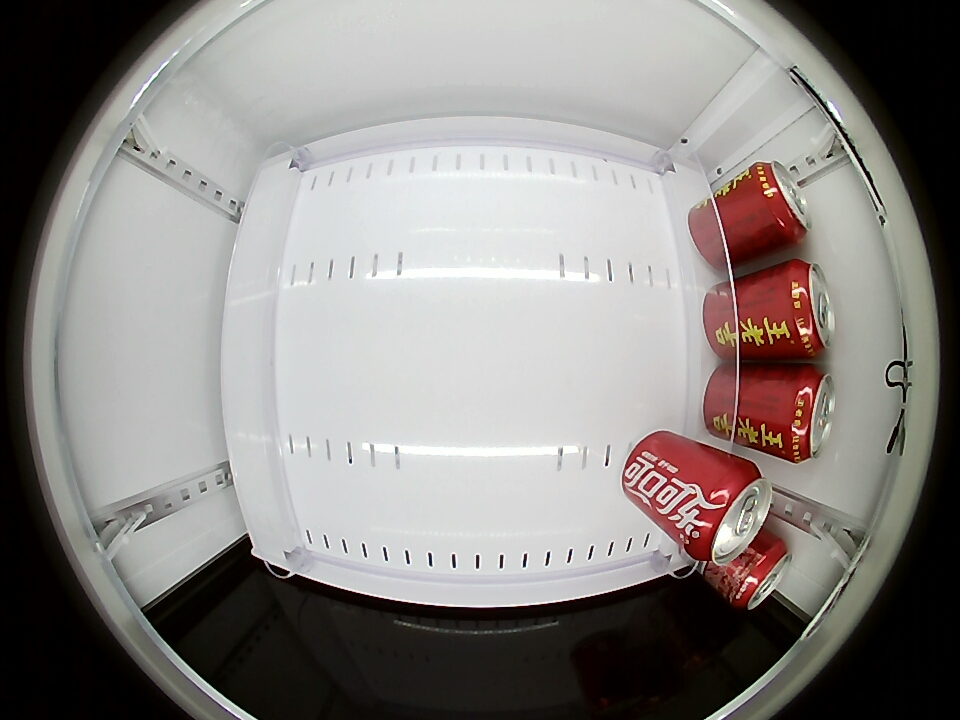kele: (685, 461, 773, 566), (729, 538, 791, 610)
wanglaoji-c: (776, 367, 835, 464), (780, 259, 834, 356), (748, 161, 811, 243)
